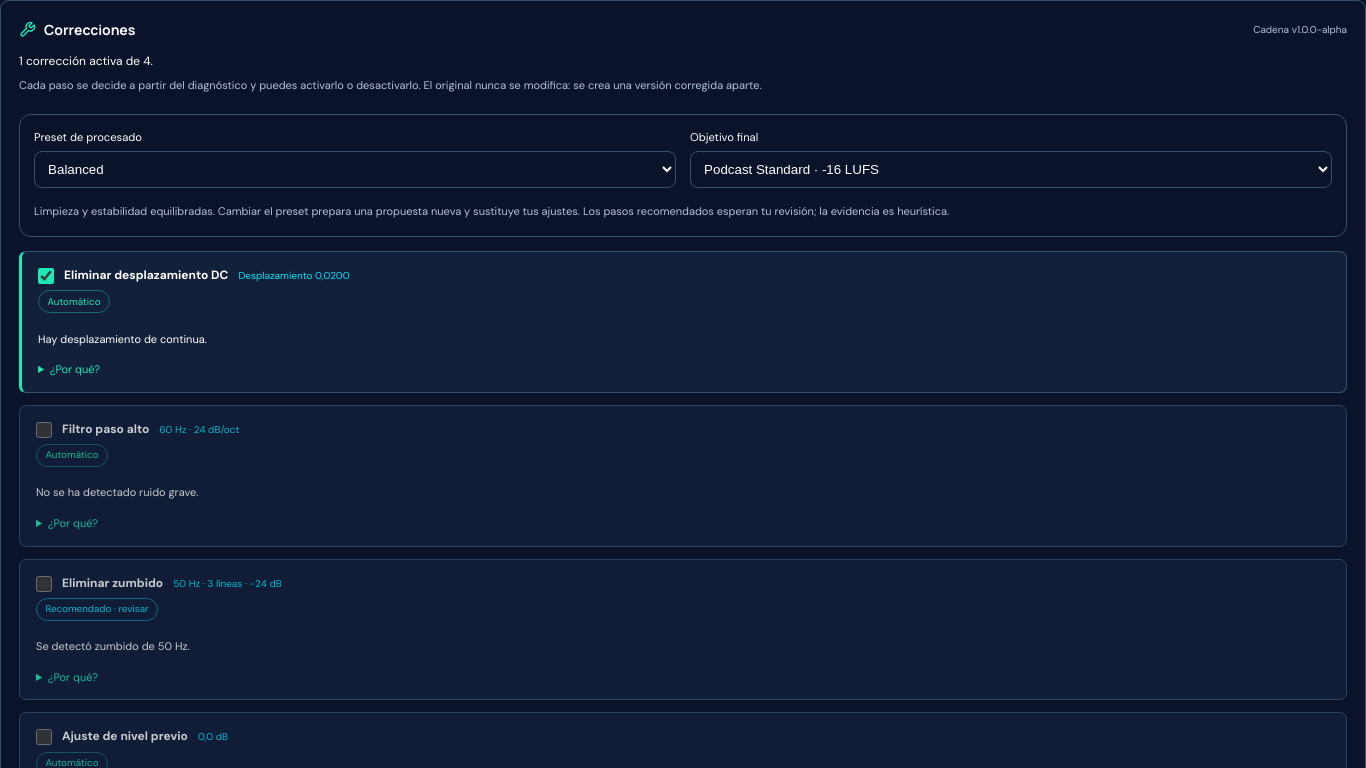
Scenario: a failed preset request preserves the current proposal and permits retry
Select "Studio" in the dropdown labelled "Preset de procesado": (355, 170) [34,151,676,188]
(page scrolled)
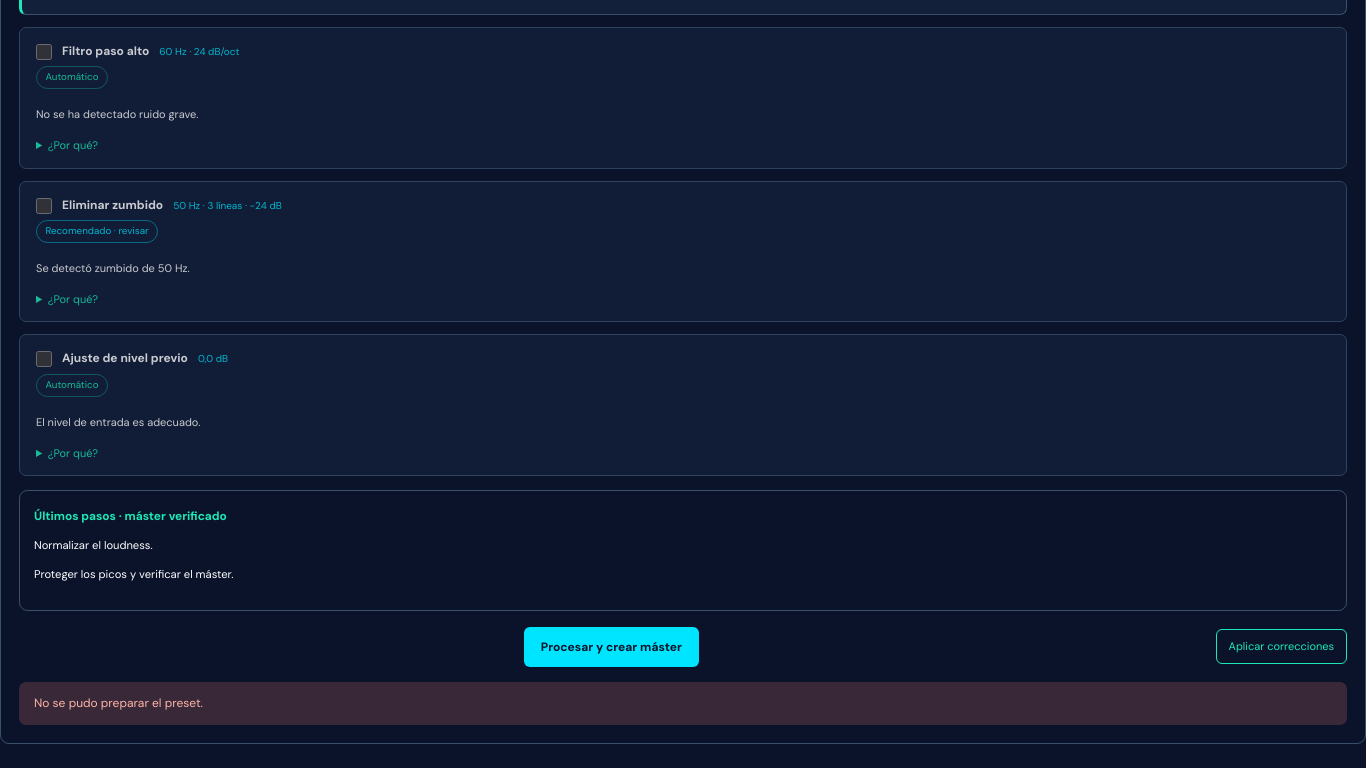
Expected: the button "Procesar y crear máster" is enabled, [524,626,699,666]
Expected: the message reads "No se pudo preparar el preset.", [34,694,203,710]
